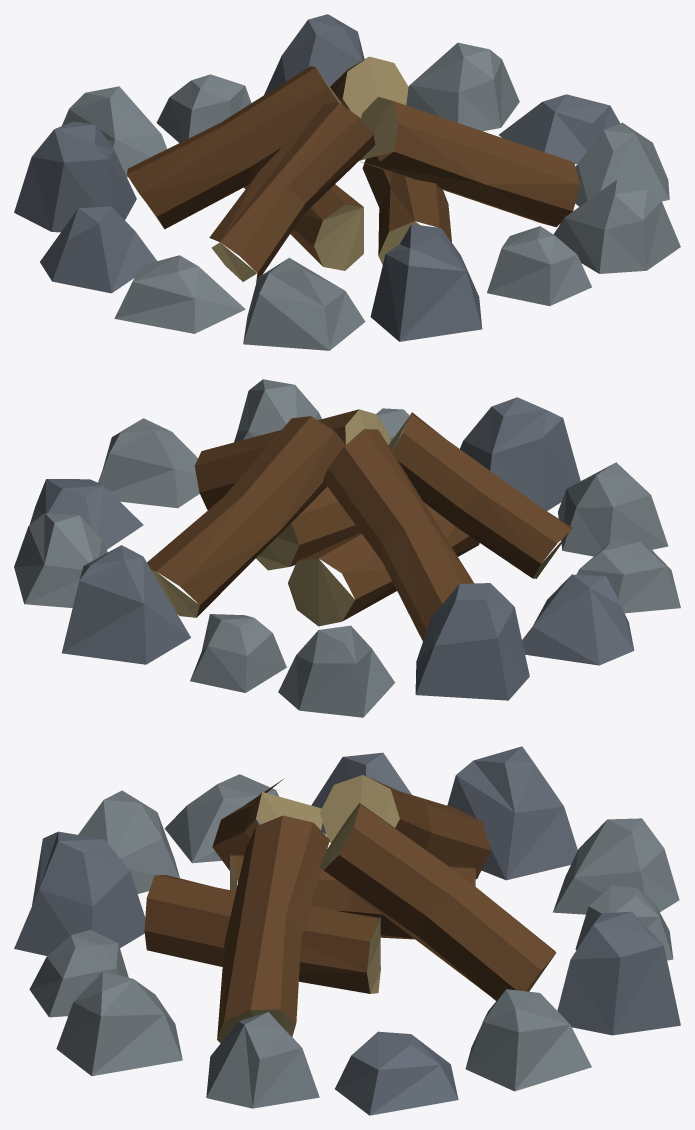
Rendered from bonfire_lod.glb.
The picture shows the model from 3 angles, top to bottom: view 1: azimuth 30°, elevation 25°; view 2: azimuth 150°, elevation 25°; view 3: azimuth 270°, elevation 25°; orthographic projection. The views are drawn at different scales.
Visible parts, largest first — view 1: Bonfire; view 2: Bonfire; view 3: Bonfire.
Part boxes in pixels (box(x1,y1,x2,y2)): Bonfire: box(14, 14, 680, 350); Bonfire: box(14, 379, 680, 717); Bonfire: box(14, 746, 680, 1115).
Bounding box in the file's own units: 0.4066 × 0.1122 × 0.3624.
